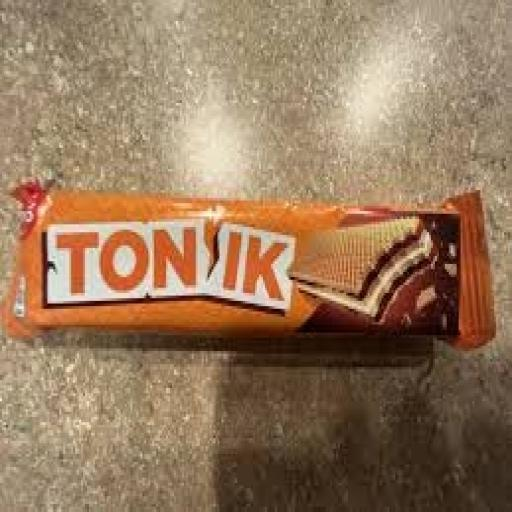tonik: (14, 93, 506, 423)
